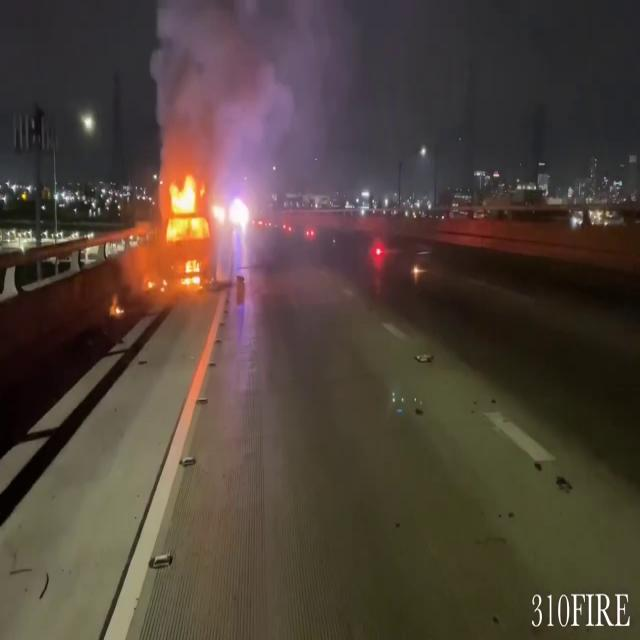Fire: (157, 172, 215, 282)
Smoke: (146, 1, 318, 168)
